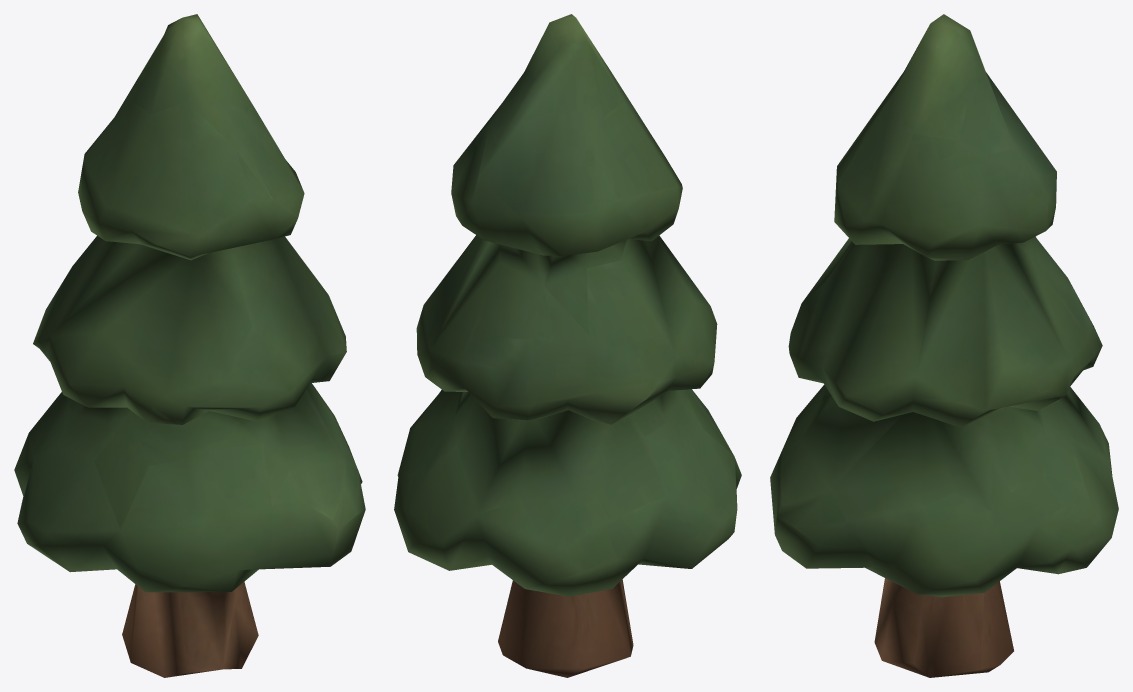
File: tree-pine-lite.glb
3 renders of one model, left to right at view 1: azimuth 30°, elevation 25°; view 2: azimuth 150°, elevation 25°; view 3: azimuth 270°, elevation 25°, orthographic.
Parts seen in each view (by area): view 1: tripo_node_10c816b1-1379-4e0a-8d95-784797cffbee; view 2: tripo_node_10c816b1-1379-4e0a-8d95-784797cffbee; view 3: tripo_node_10c816b1-1379-4e0a-8d95-784797cffbee.
Part boxes in pixels (x1,y1,x2,y2): tripo_node_10c816b1-1379-4e0a-8d95-784797cffbee: (14, 14, 365, 677); tripo_node_10c816b1-1379-4e0a-8d95-784797cffbee: (394, 14, 741, 677); tripo_node_10c816b1-1379-4e0a-8d95-784797cffbee: (770, 14, 1118, 677).
Bounding box in the file's own units: 0.5186 × 1 × 0.4943.
Materials: 1 (1 with a texture image).
